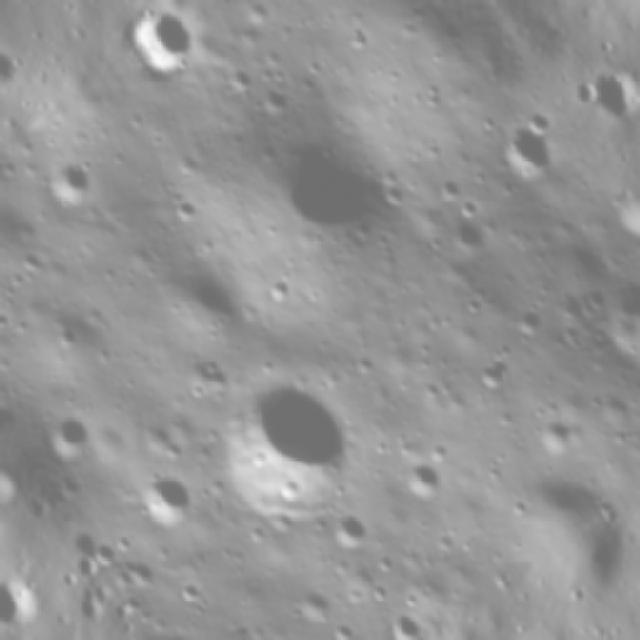crater: (224, 94, 416, 288), (195, 353, 382, 544), (141, 242, 257, 360), (478, 96, 585, 204), (120, 454, 208, 546), (30, 396, 113, 479), (597, 252, 640, 397), (133, 21, 216, 96), (34, 145, 112, 224), (436, 202, 510, 276), (389, 446, 456, 516), (495, 293, 559, 358), (282, 577, 341, 637), (594, 186, 640, 256), (16, 103, 78, 154), (375, 598, 431, 640)
